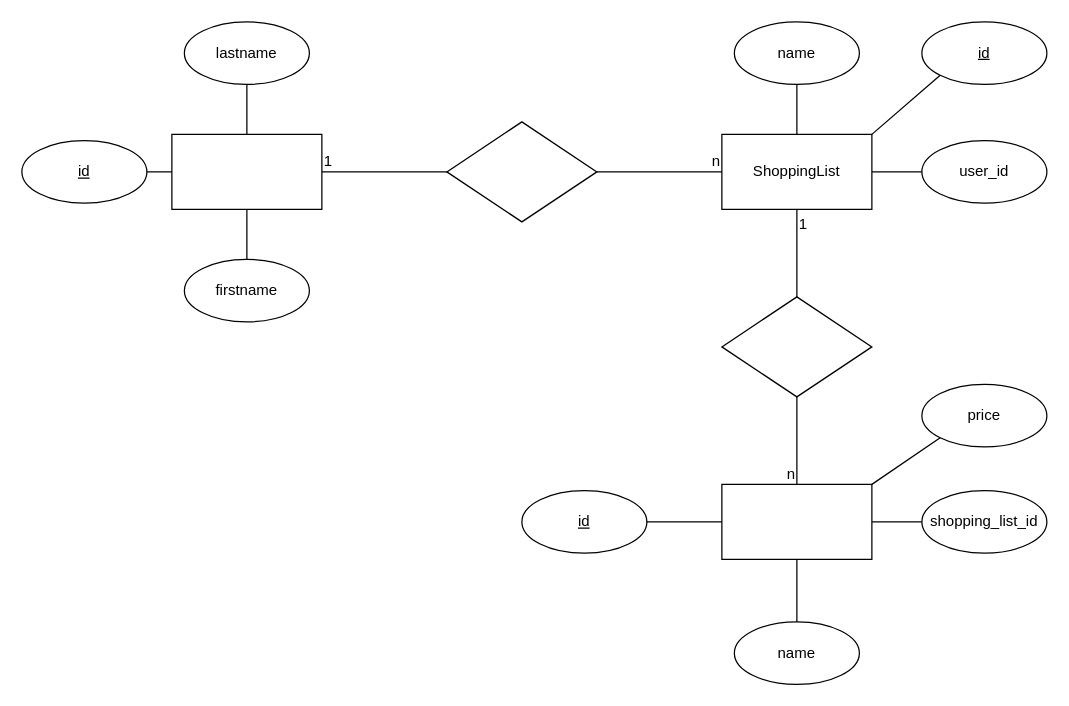
The diagram is 1069 pixels wide and 706 high, and some of its shapes have lost their labels. Here are the shapes that lost their labels. From the top down, the box of each, then its label:
(171, 133, 322, 209): User
(446, 121, 597, 222): creates multiple
(721, 296, 872, 397): has multiple
(721, 483, 872, 559): Item
